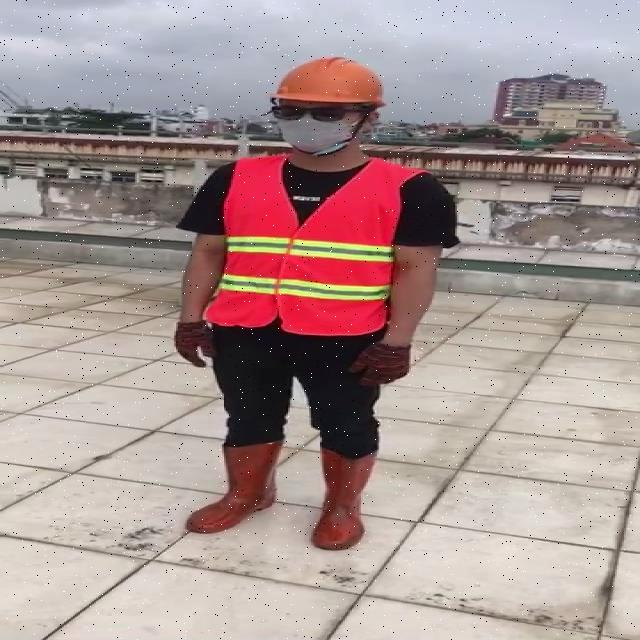Hard_hat: (267, 51, 397, 116)
Vest: (213, 150, 400, 340)
